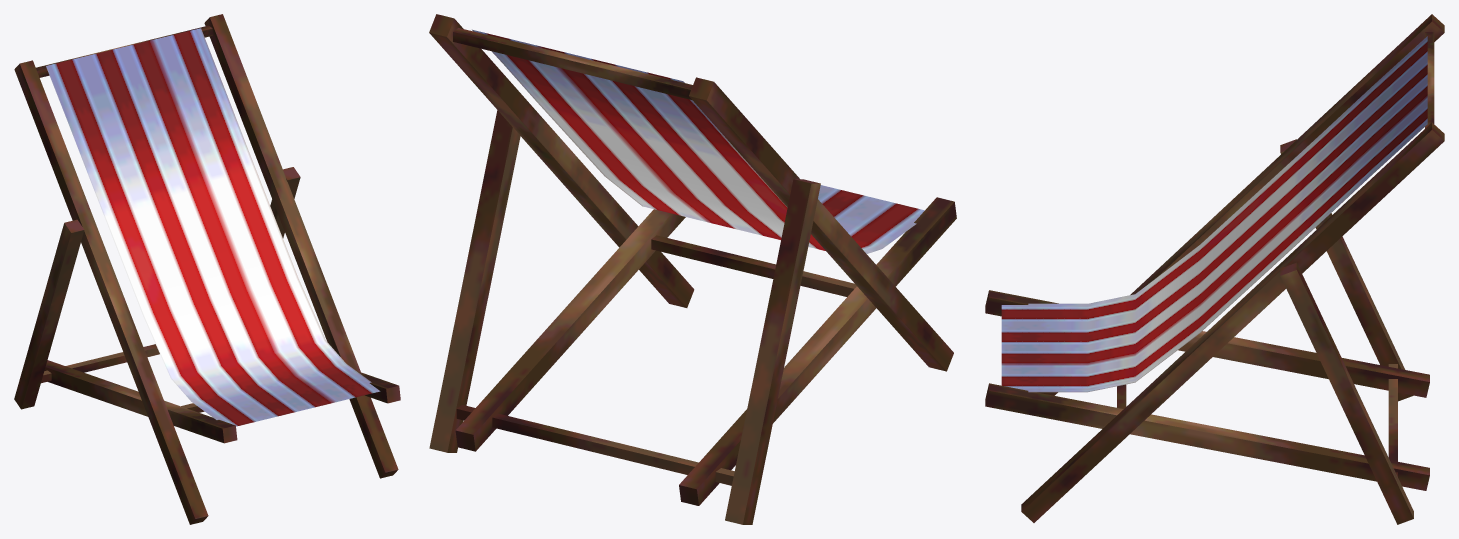
The model's file is WoodenDeckChair.fbx.
3 views of the same model, side by side, from view 1: azimuth 30°, elevation 25°; view 2: azimuth 150°, elevation 25°; view 3: azimuth 270°, elevation 25° (orthographic). The views are drawn at different scales.
Visible parts, largest first — view 1: woodenDeckChair; view 2: woodenDeckChair; view 3: woodenDeckChair.
Part boxes in pixels (bbox=[...]): woodenDeckChair: bbox=[14, 14, 400, 524]; woodenDeckChair: bbox=[429, 14, 956, 524]; woodenDeckChair: bbox=[985, 14, 1444, 524].
Size of the model in its own units: 194 by 272 by 288.
